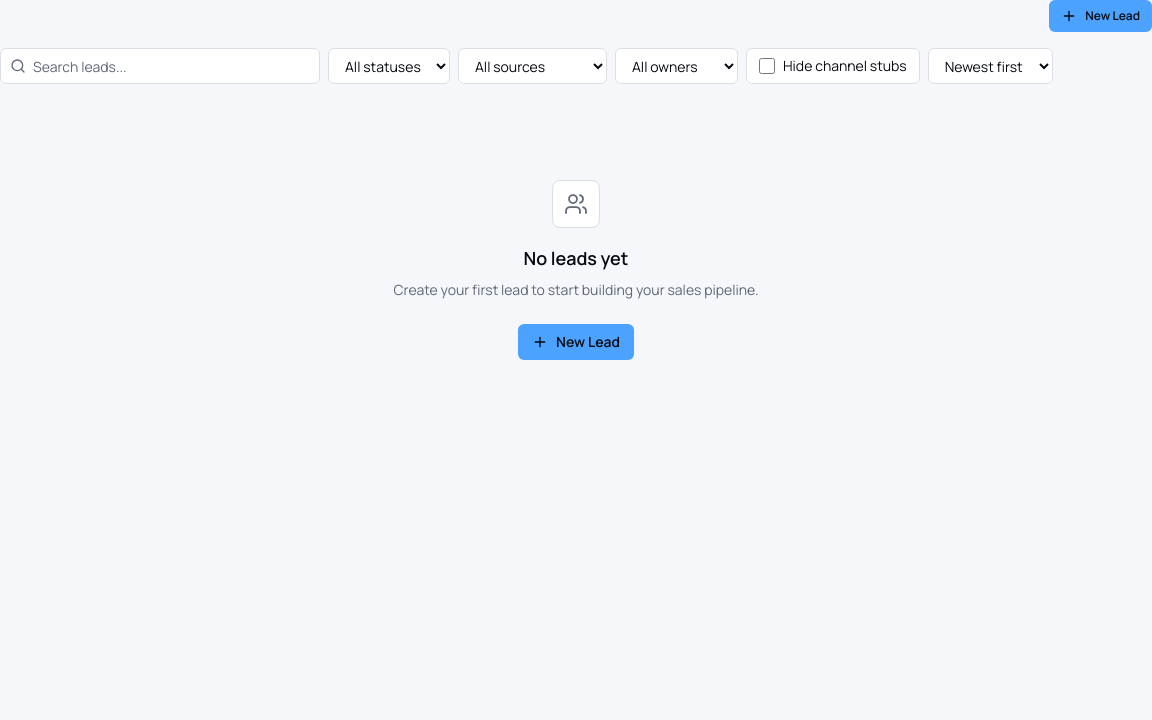
Scenario: LeadsClient — create lead › shows the create form when 'New Lead' button is clicked
The image size is (1152, 720).
Check: the heading "No leads yet" is shown, box [524,244,628,272]
Click the 1st button "New Lead". click: (1101, 16)
box: [1049,0,1151,32]
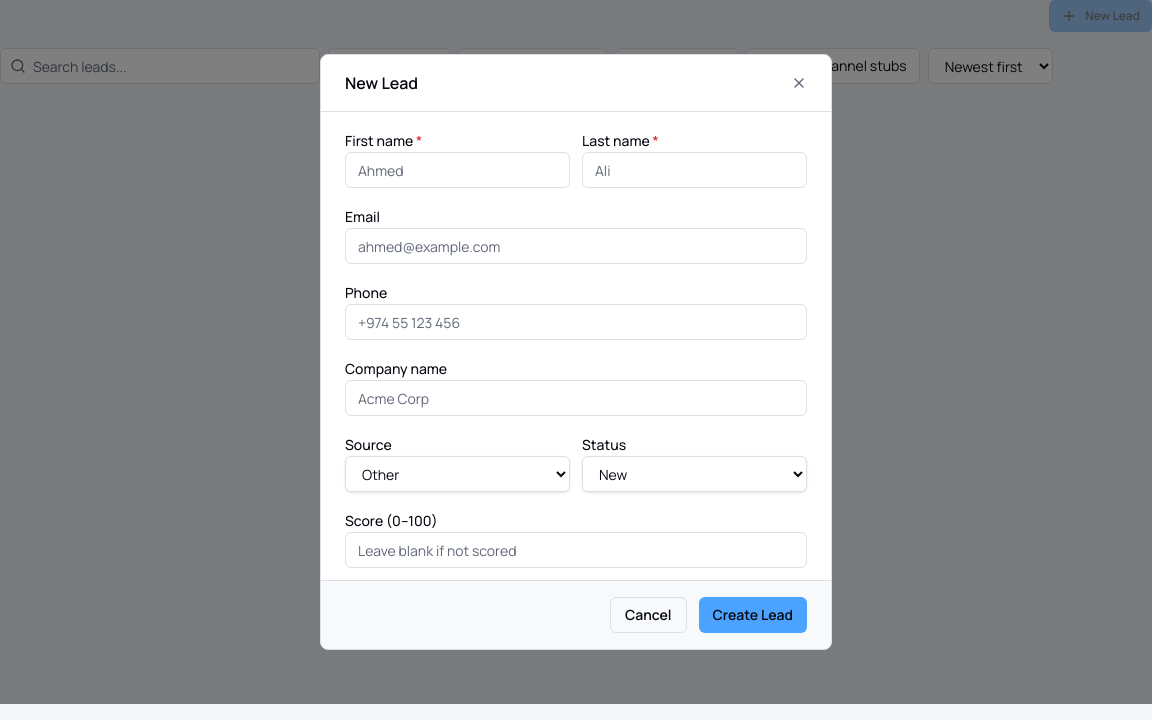
Check: the dialog is shown
